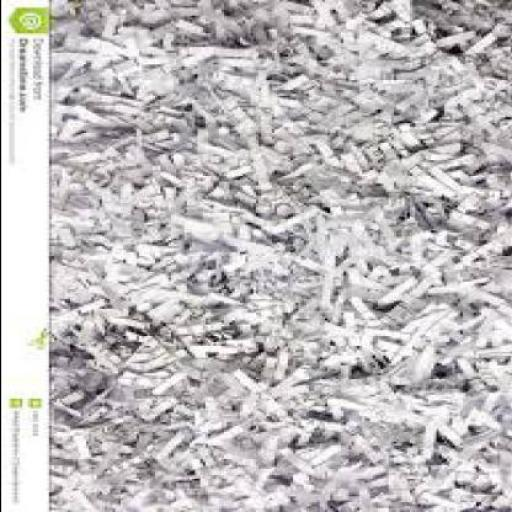paper: (49, 0, 511, 512)
